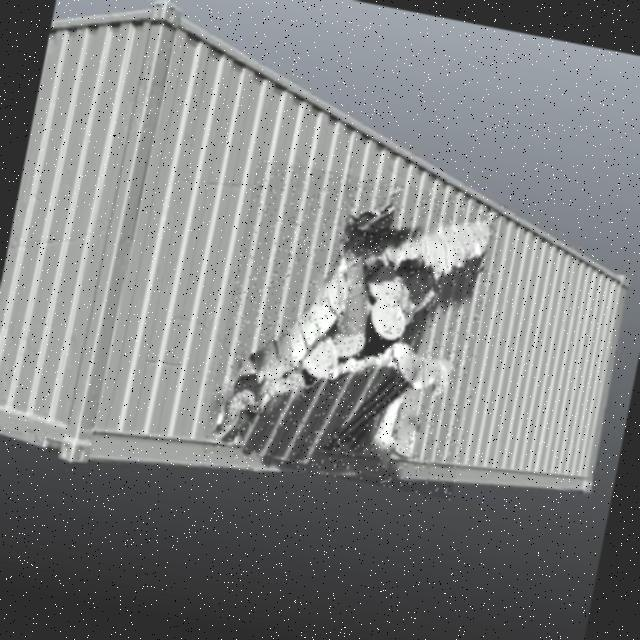dent: (203, 159, 510, 502)
